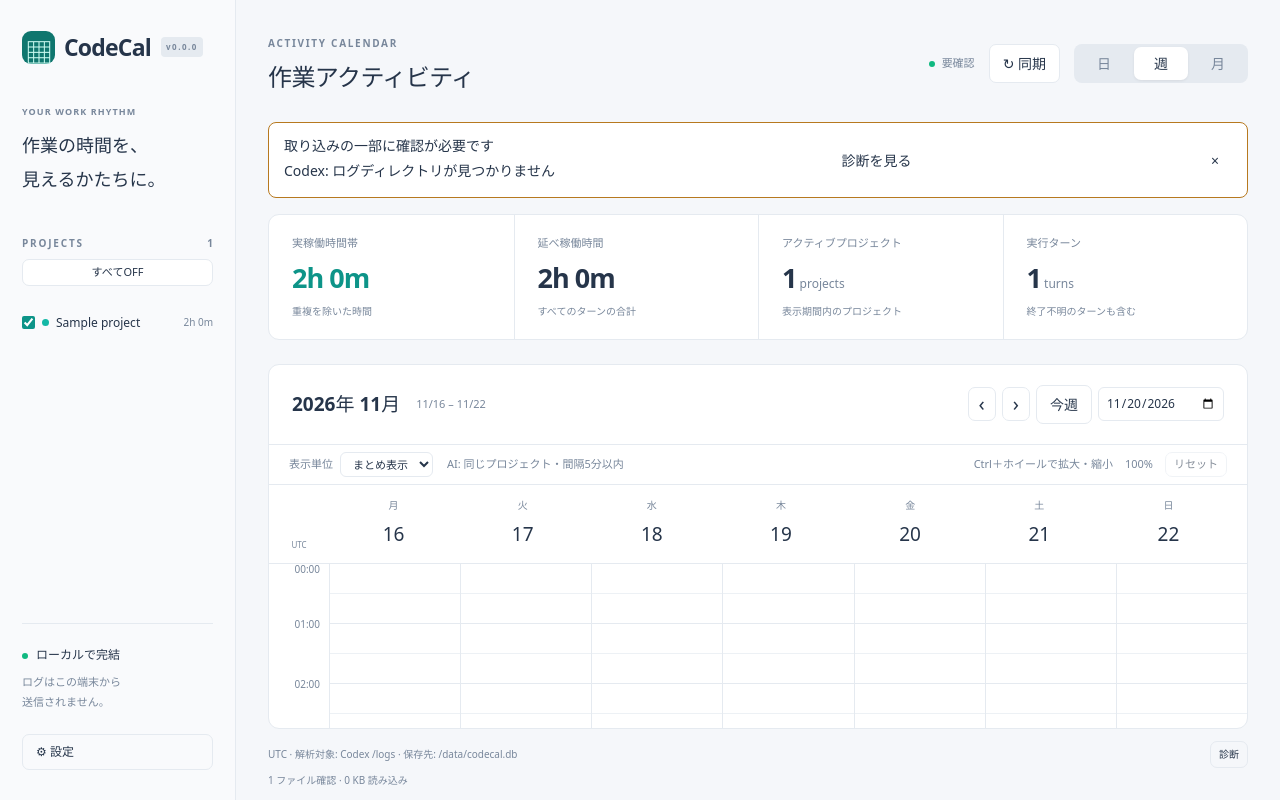
shows partial import failures and clears them after a successful retry
Check: the message named "同期の警告" shows "Codex: ログディレクトリが見つかりません", box [284,161,555,180]
Check: the text "要確認" is shown, box [929,55,975,71]
Click the button "診断を見る" at point(876, 160), box [828,142,924,178]
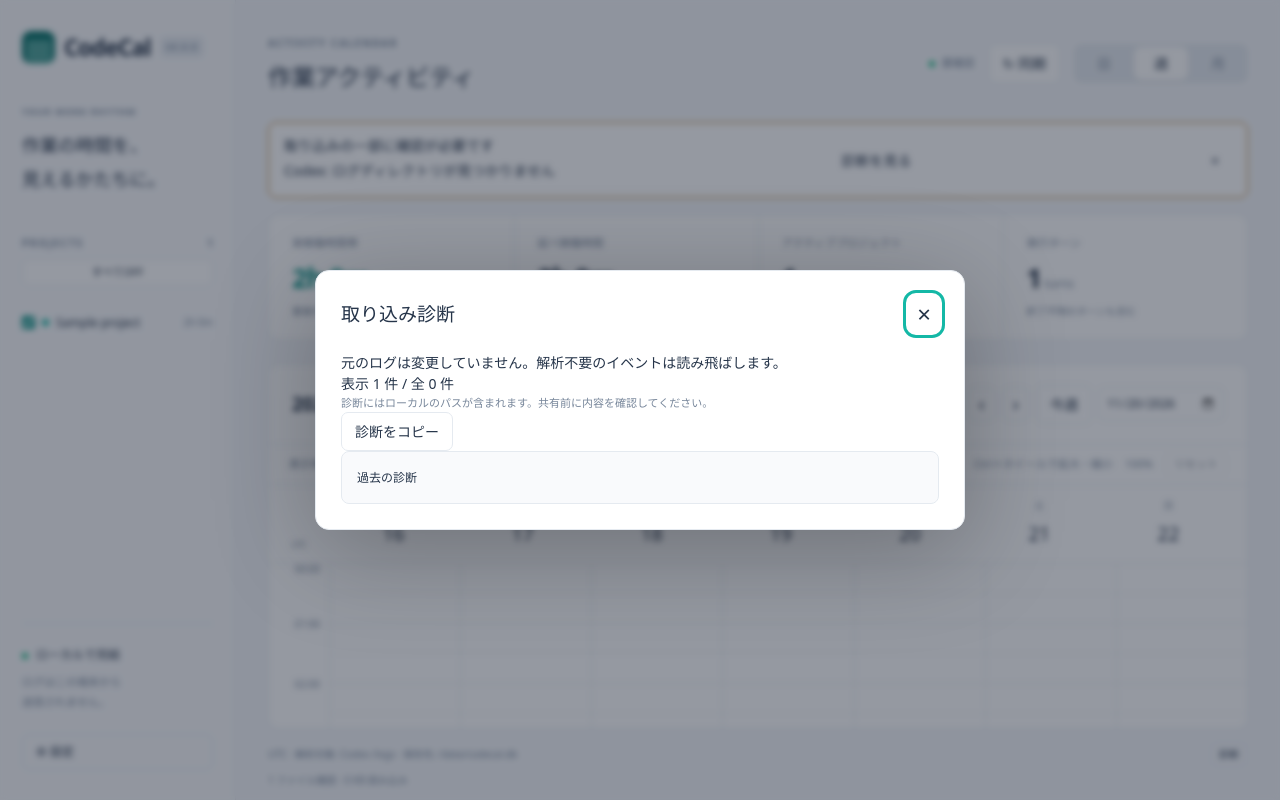
Check: the dialog shows "過去の診断", box [357,468,417,486]
Click the button named "閉じる" at point(924, 314), box [909,296,939,332]
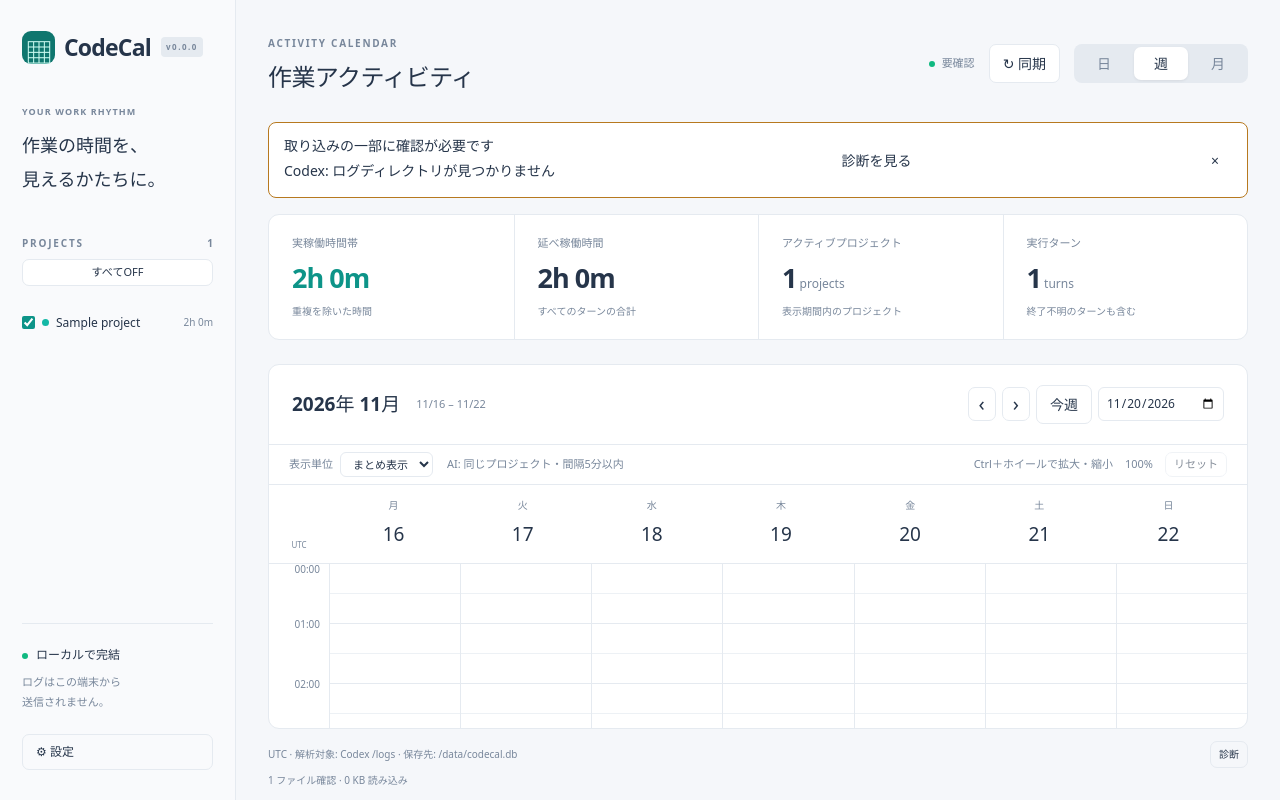
Click the button "↻ 同期" at point(1024, 63), box [989,44,1060,82]
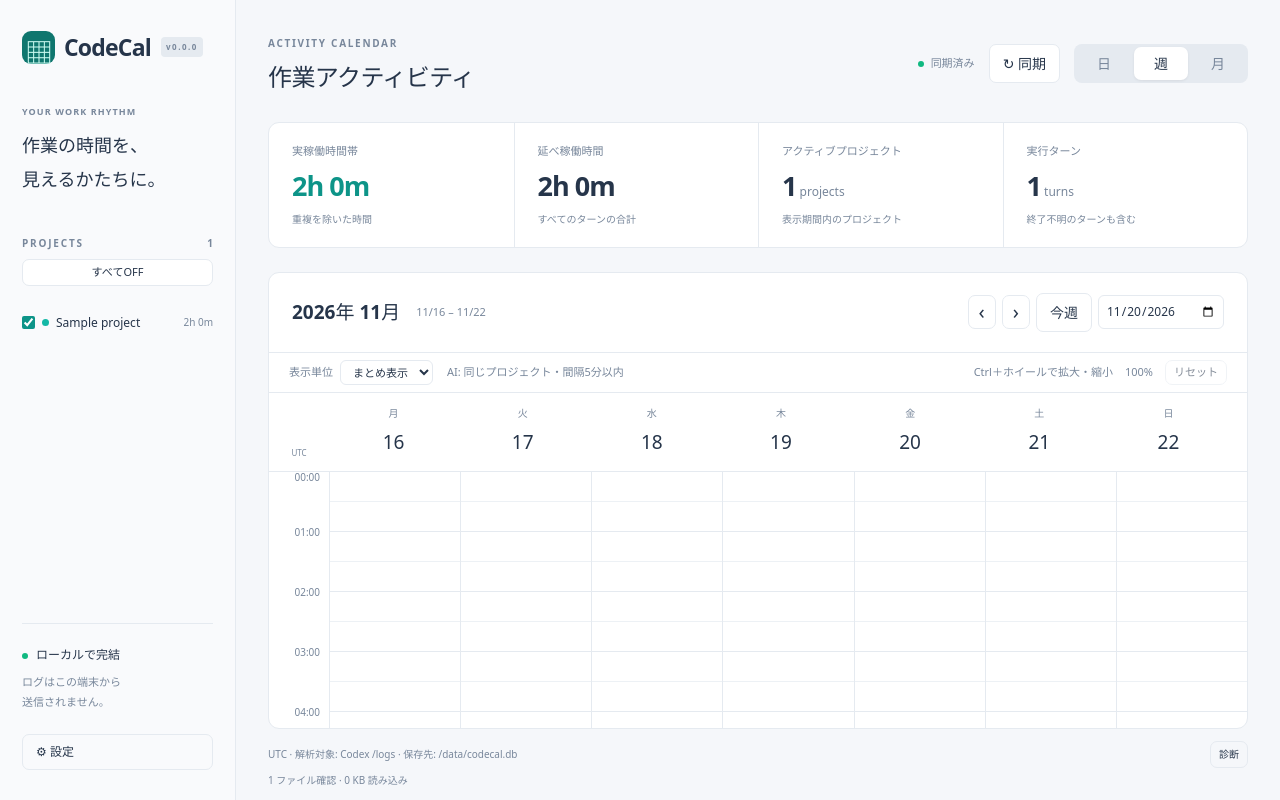
Check: the message "同期の警告" is gone
Check: the text "同期済み" is shown, box [918,55,975,71]
